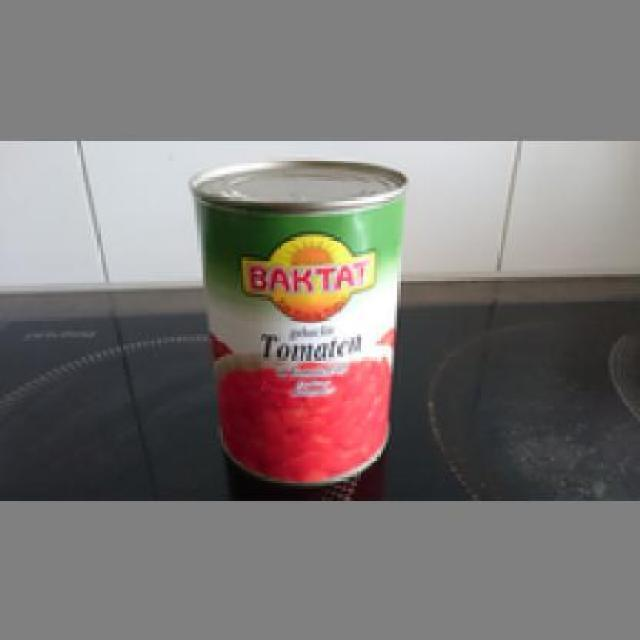Tomato Sauce: (191, 154, 406, 483)
